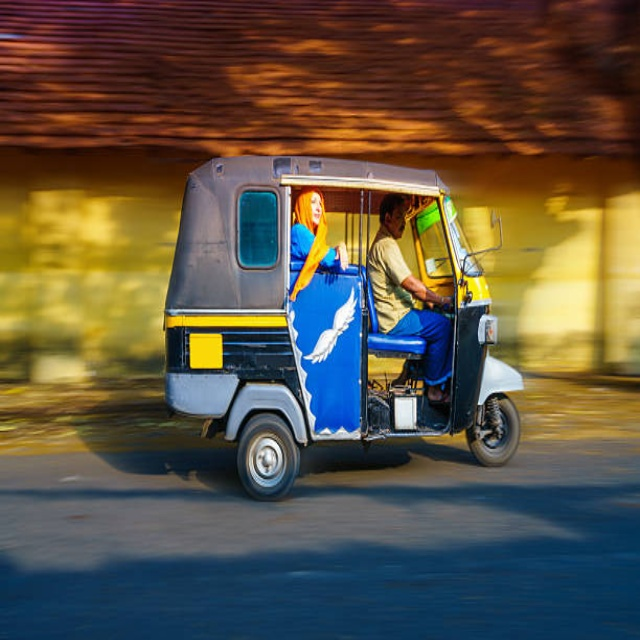Motorcycle: (163, 153, 525, 504)
